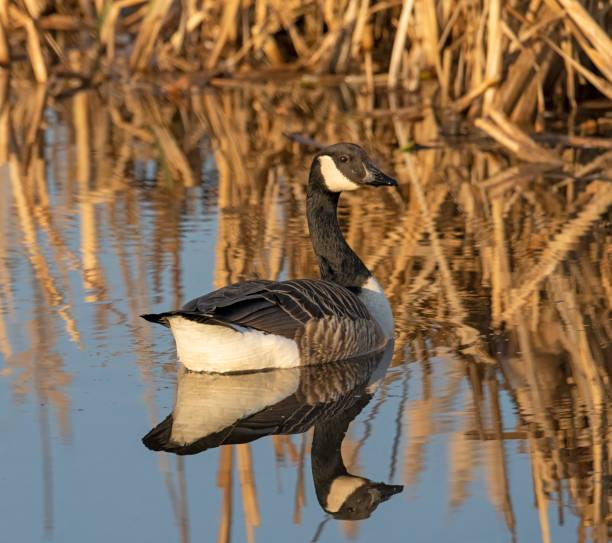Canadian-Goose: (145, 139, 408, 370)
